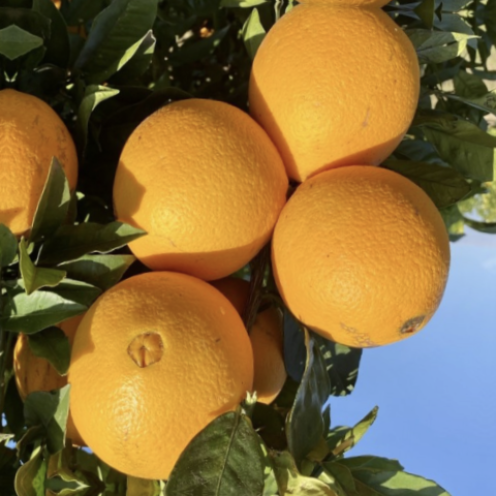orange: (54, 264, 280, 495), (217, 8, 445, 204), (92, 96, 298, 300), (266, 164, 476, 351)
